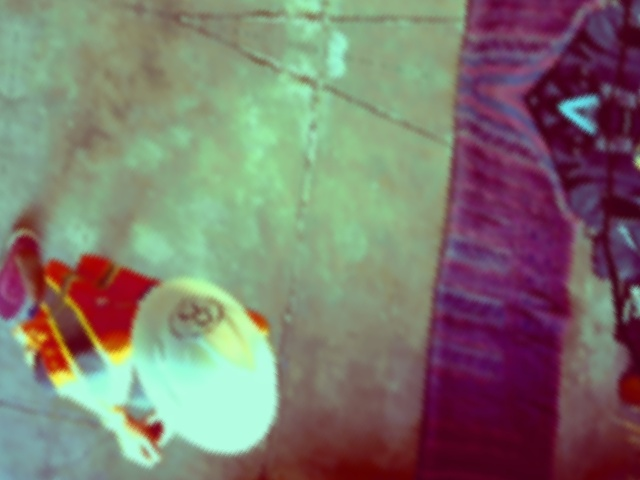eight: (165, 286, 224, 345)
